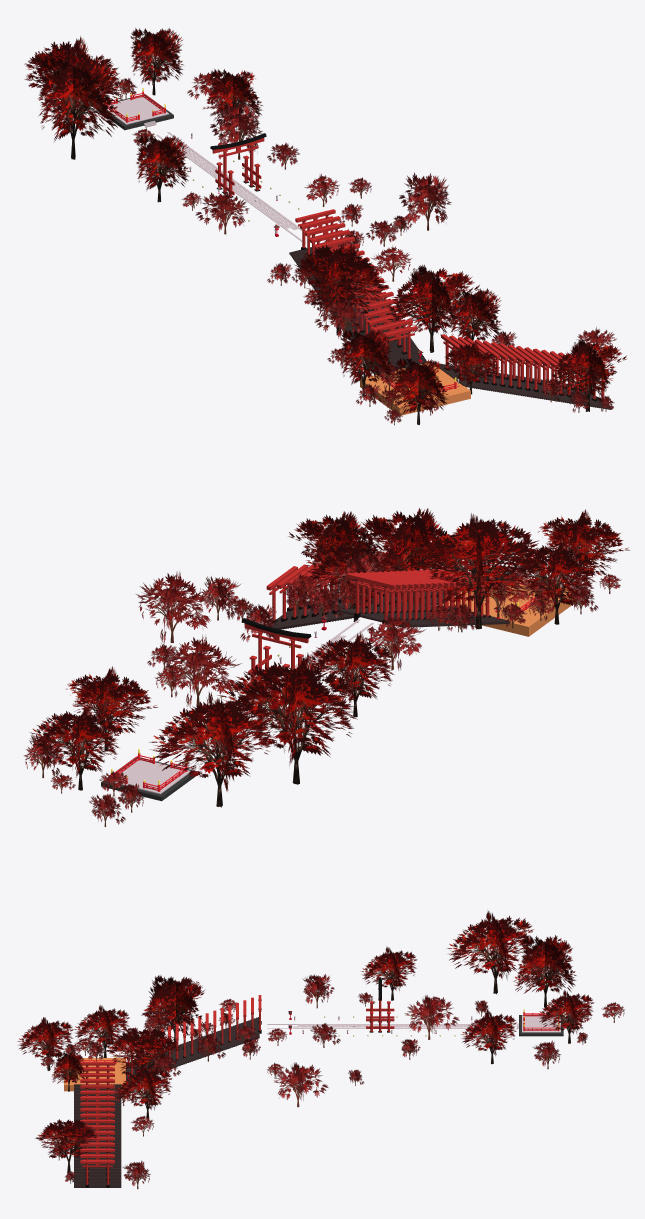
Rendered from 神社と鳥居と紅葉配布用1.3.glb.
3 views of the same model, one above another, from view 1: azimuth 30°, elevation 25°; view 2: azimuth 150°, elevation 25°; view 3: azimuth 270°, elevation 25° (orthographic). The views are drawn at different scales.
Visible parts, largest first — view 1: 円柱.018; view 2: 円柱.018; view 3: 円柱.018.
Boxes of the visible parts, bbox=[...] form: 円柱.018: bbox=[24, 28, 627, 425]; 円柱.018: bbox=[23, 508, 630, 826]; 円柱.018: bbox=[17, 911, 624, 1188].
Bounding box in the file's own units: 77.81 × 46.02 × 144.
Materials: 22 (7 with a texture image).
